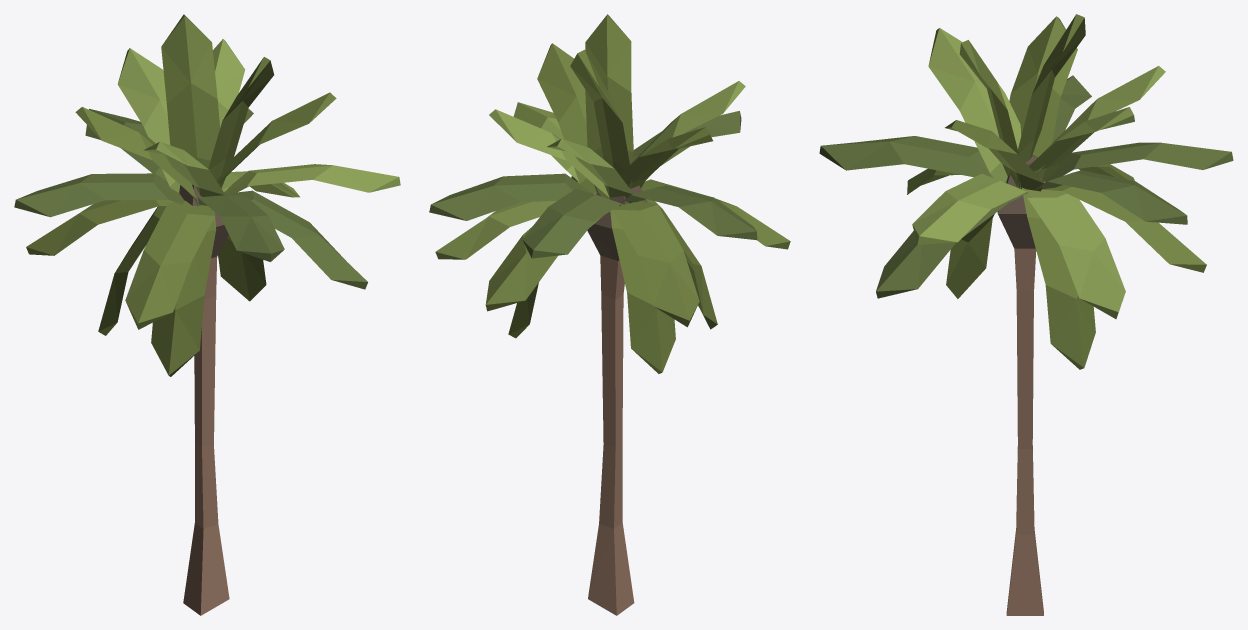
File: tree_0704.dae
3 views of the same model, side by side, from view 1: azimuth 30°, elevation 25°; view 2: azimuth 150°, elevation 25°; view 3: azimuth 270°, elevation 25° (orthographic). The views are drawn at different scales.
Parts seen in each view (by area): view 1: tree_0704; view 2: tree_0704; view 3: tree_0704.
Boxes of the visible parts, <box> form: tree_0704: <box>14,14,400,615</box>; tree_0704: <box>429,14,790,615</box>; tree_0704: <box>819,14,1233,615</box>.
Size of the model in its own units: 2.4 by 2.59 by 4.19.
